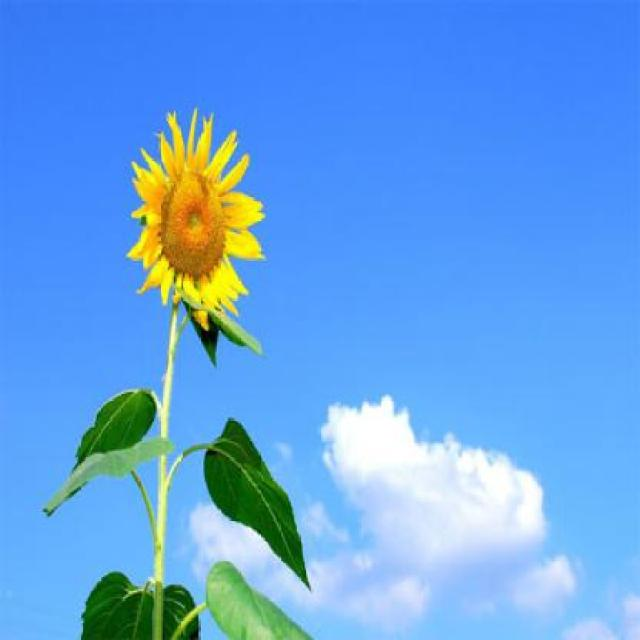sunflower: (122, 104, 276, 341)
